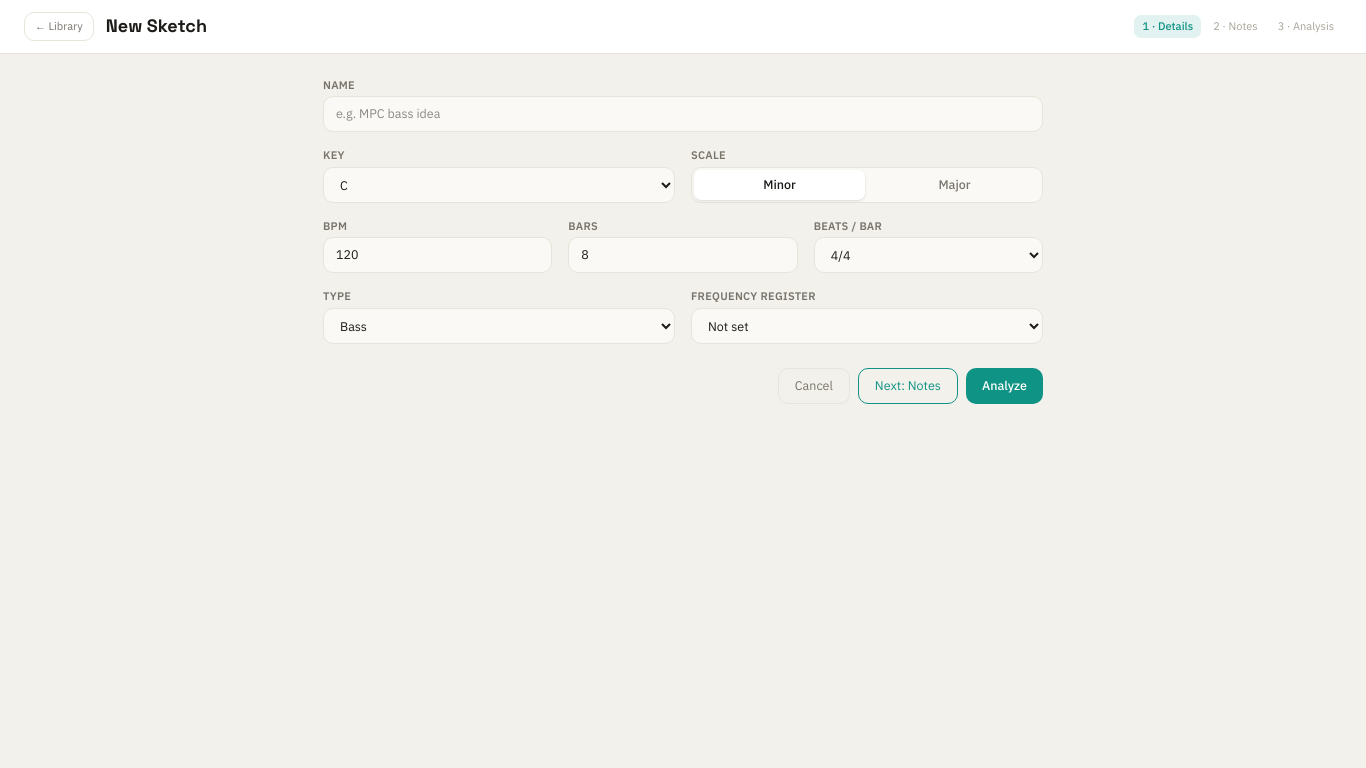
Test: SketchWizard — results step › shows key, mood and compatible keys after analysis
Click the button "Analyze" at (1004, 386), box left=966, top=368, right=1043, bottom=404
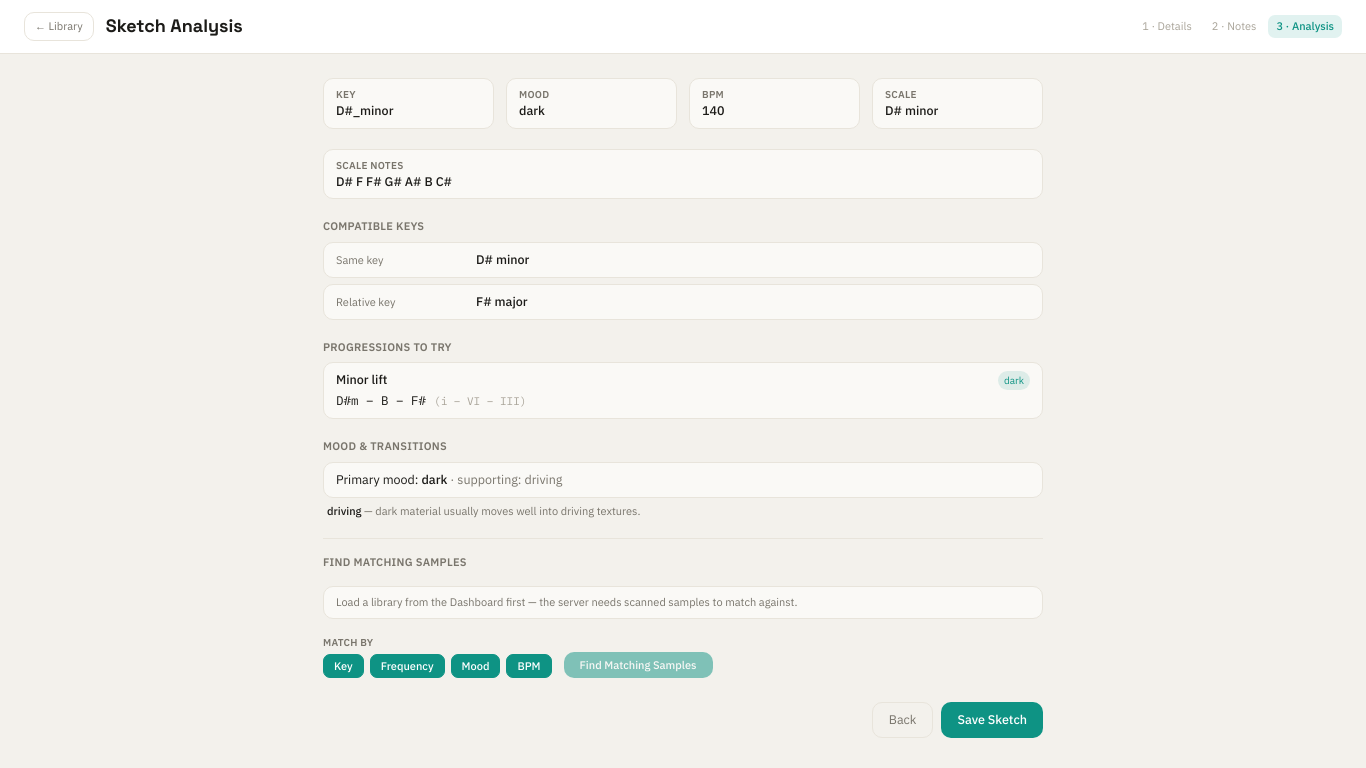
Check: the heading "Sketch Analysis" is shown, box left=106, top=12, right=243, bottom=40
Check: the text "D#_minor" is shown, box left=336, top=102, right=393, bottom=118
Check: the text "dark" next to "140" is shown, box left=519, top=102, right=545, bottom=118
